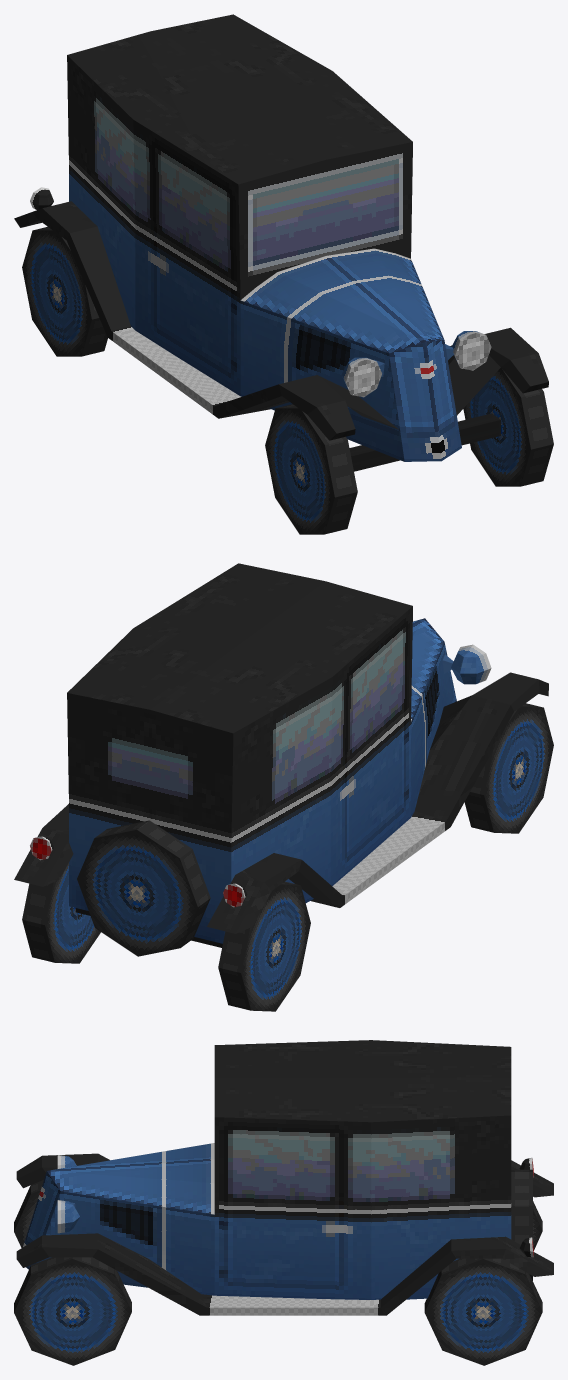
The model's file is Old.glb.
The picture shows the model from 3 angles, top to bottom: view 1: azimuth 30°, elevation 25°; view 2: azimuth 150°, elevation 25°; view 3: azimuth 270°, elevation 25°; orthographic projection. The views are drawn at different scales.
Visible parts, largest first — view 1: Car7; view 2: Car7; view 3: Car7.
Boxes of the visible parts, left/top/right/bottom form: Car7: left=14, top=14, right=553, bottom=534; Car7: left=14, top=563, right=553, bottom=1011; Car7: left=14, top=1040, right=553, bottom=1365.
Size of the model in its own units: 2.43 by 2.86 by 5.78.
Materials: 1 (1 with a texture image).
